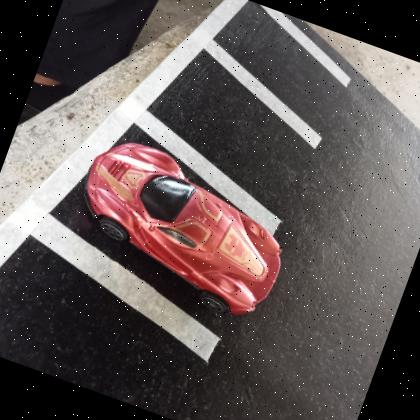Car: (84, 142, 281, 316)
